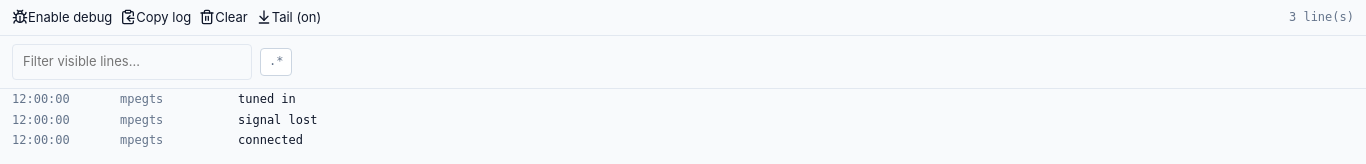
LogView — text filter › narrows the rendered list to lines matching the substring
Type "signal" into the search field with placeholder "Filter visible lines…" at (132, 62), box [12,44,252,80]
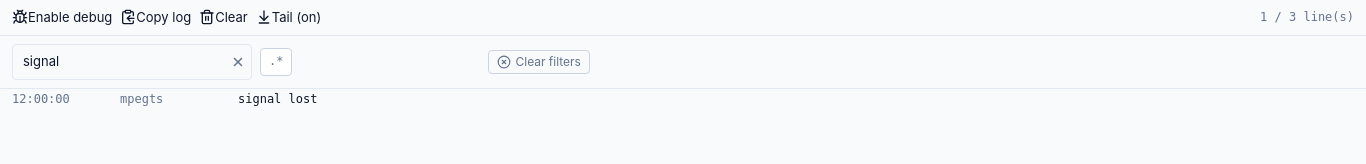
Expected: the element with class "log-view__line" shows "signal lost", [238,92,318,106]
Now the number of elements with class "log-view__line" is 1, box [12,92,318,106]
